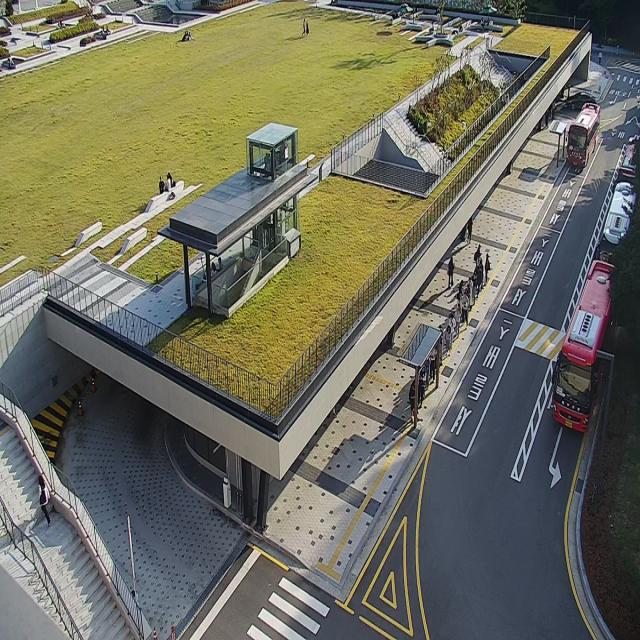queue: (414, 254, 488, 432)
